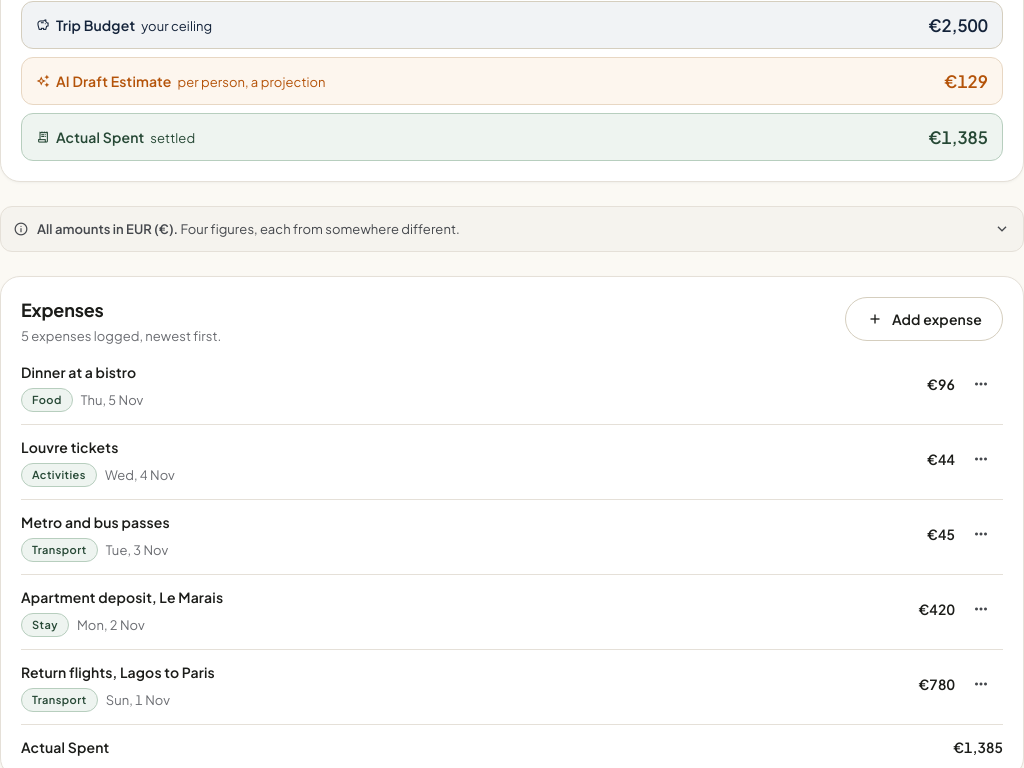
Test: BudgetPage › correcting an expense › rejects a correction that empties the description
(page scrolled)
Click the button without text in the row of "Dinner at a bistro" at (981, 384), box [959,362,1003,406]
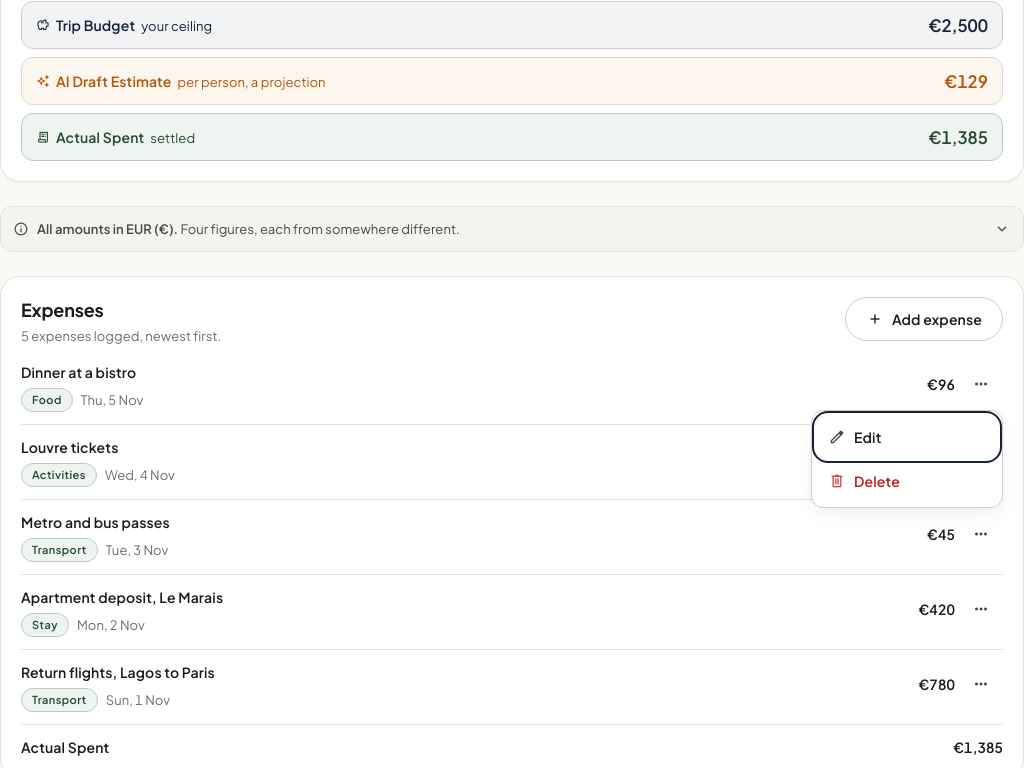
Click the menu item "Edit" at (907, 437), box [816,415,998,459]
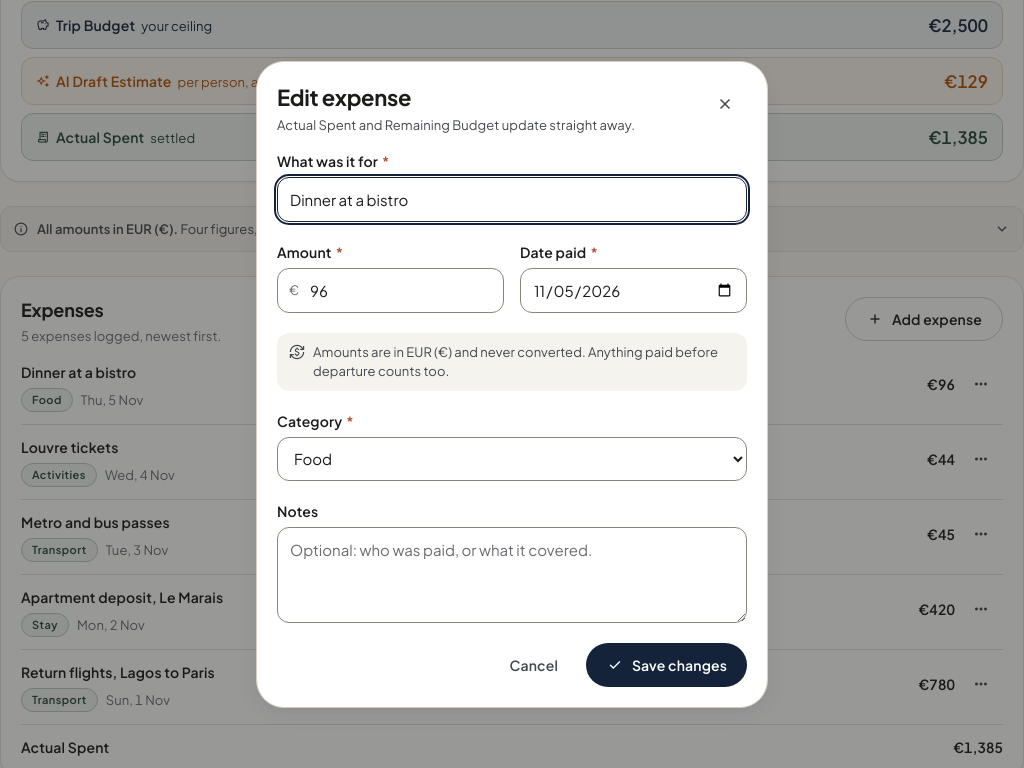
Clear the field labelled "What was it for*" at (512, 199), box [277,176,747,222]
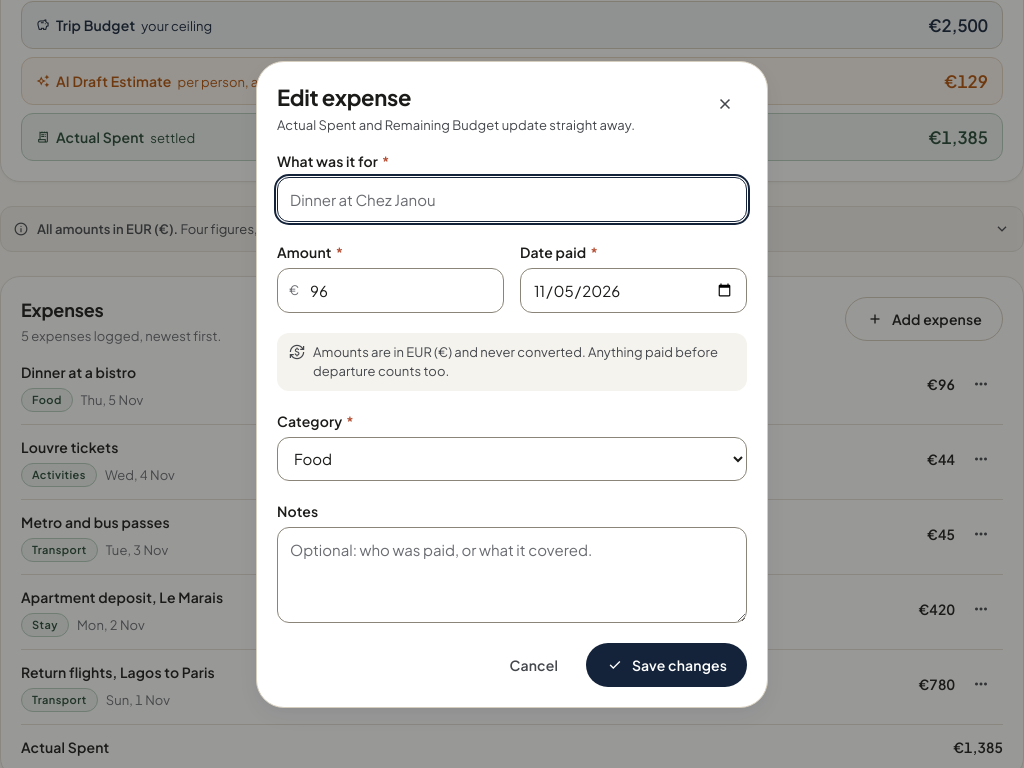
Click the button "Save changes" at (666, 664), box [586,642,747,686]
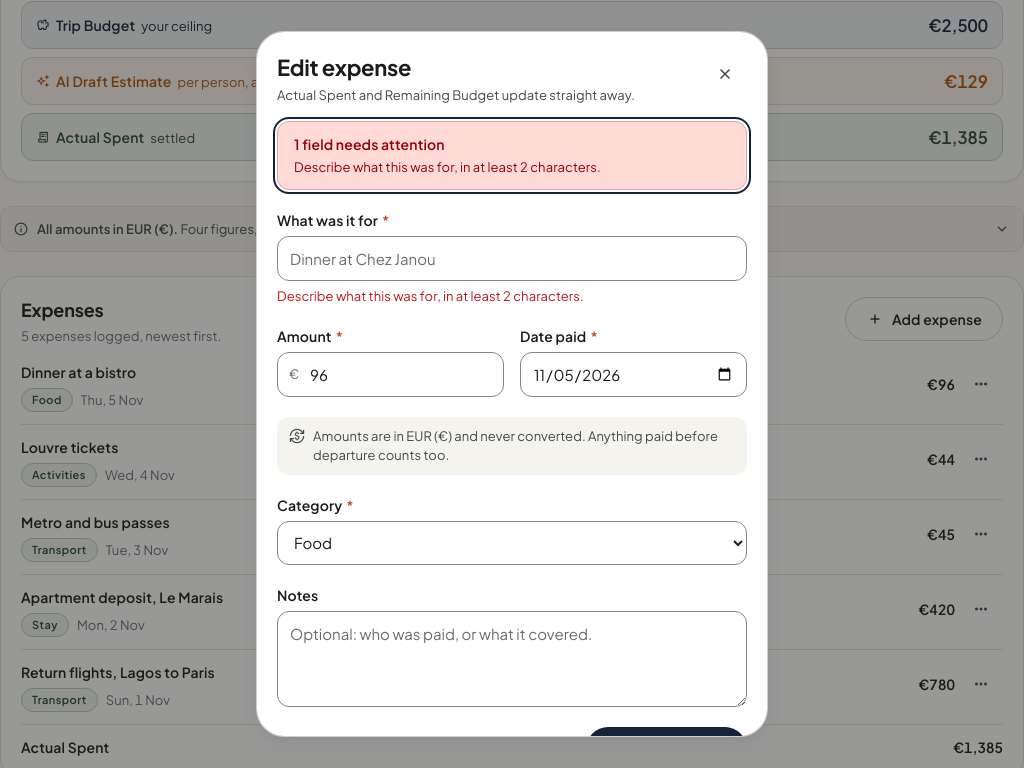
Expected: the text "Dinner at a bistro" is shown, [21,363,136,381]
Result: the list item "Describe what this was for, in at least 2 characters." is shown at [294,159,601,175]
